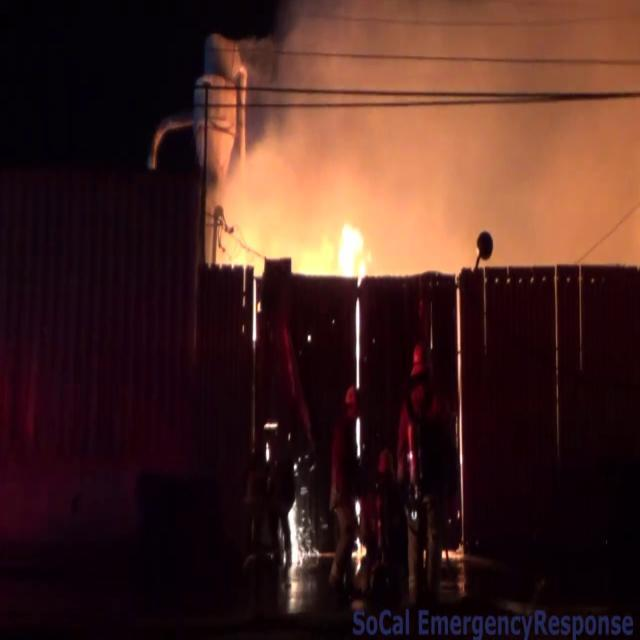Fire: (329, 210, 376, 290)
Smoke: (232, 0, 640, 246)
